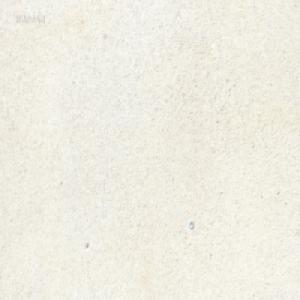Washer: (189, 219, 194, 229)
